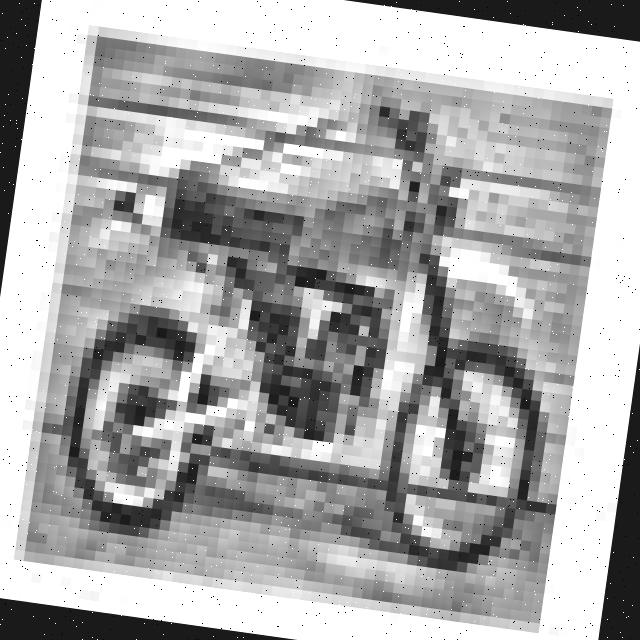mopeds: (54, 96, 594, 614)
